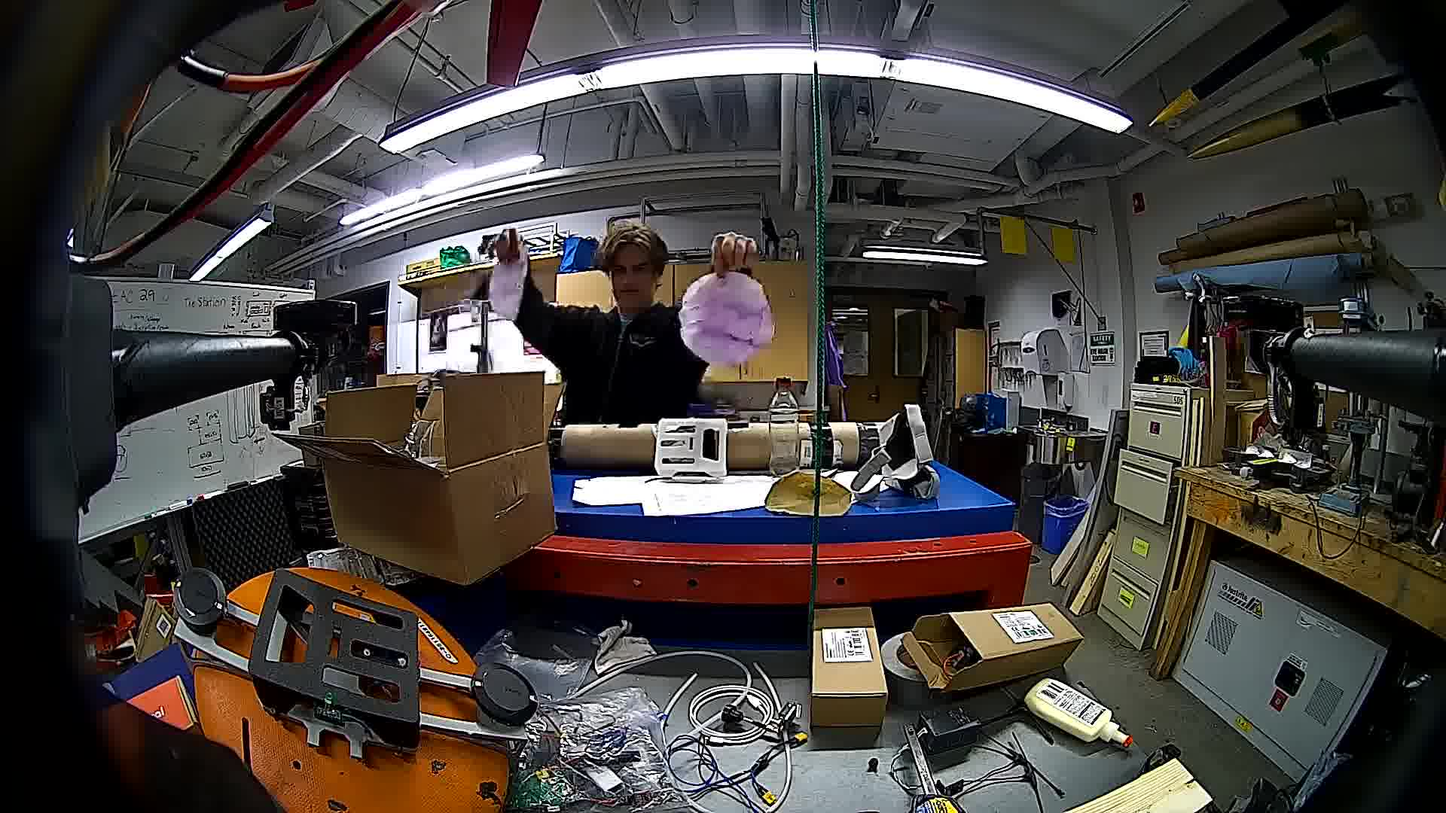Target: (678, 271, 776, 366), (488, 251, 529, 322)
